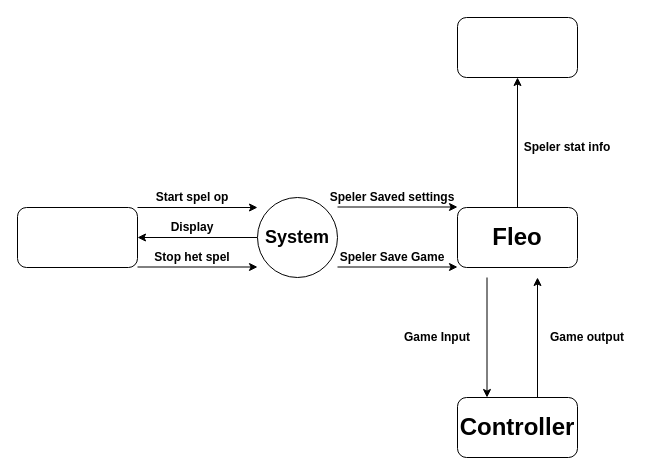
The diagram is 670 pixels wide and 475 high, and some of its shapes have lost their labels. Each missing label, with the centre of its shape:
"Database" goes at [517,47].
"Speler" goes at [77,237].
